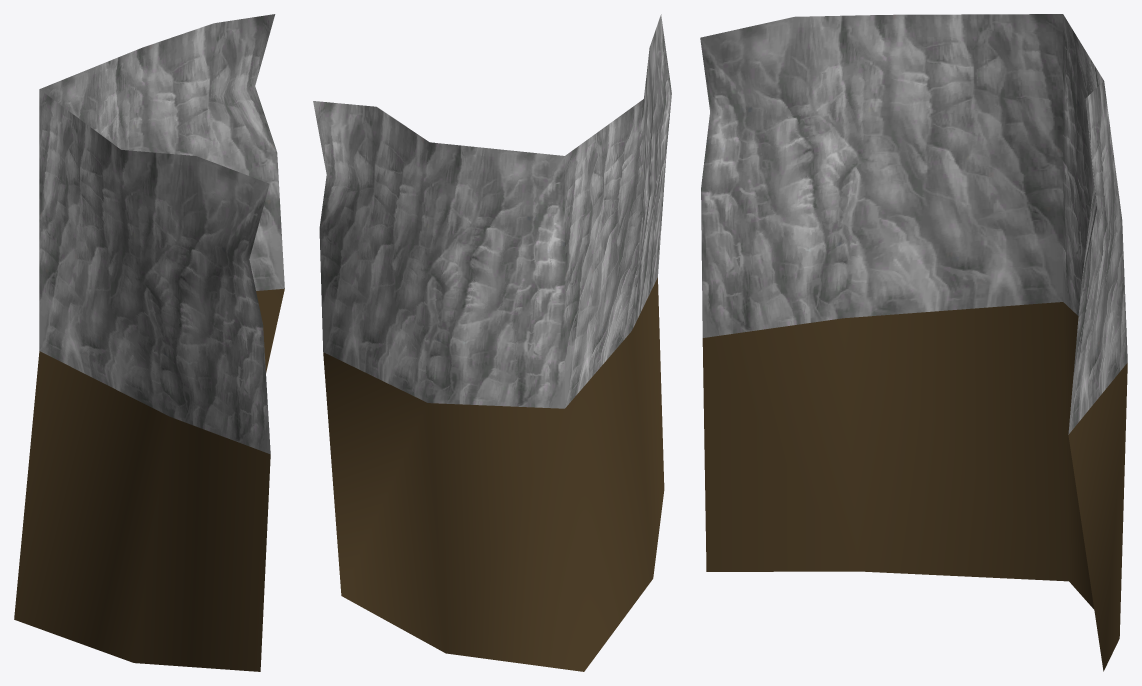
File: SWORDLIGHT20_PS-AREA03_64.fbx
3 renders of one model, left to right at view 1: azimuth 30°, elevation 25°; view 2: azimuth 150°, elevation 25°; view 3: azimuth 270°, elevation 25°, orthographic. The views are drawn at different scales.
Parts seen in each view (by area): view 1: SWORDLIGHT20_PS-AREA03_64; view 2: SWORDLIGHT20_PS-AREA03_64; view 3: SWORDLIGHT20_PS-AREA03_64.
Part boxes in pixels (left/top/right/bottom): SWORDLIGHT20_PS-AREA03_64: left=14, top=14, right=284, bottom=671; SWORDLIGHT20_PS-AREA03_64: left=313, top=14, right=671, bottom=671; SWORDLIGHT20_PS-AREA03_64: left=700, top=14, right=1127, bottom=671.
Size of the model in its own units: 54790 by 104541 by 68068.
Materials: 2 (2 with a texture image).
